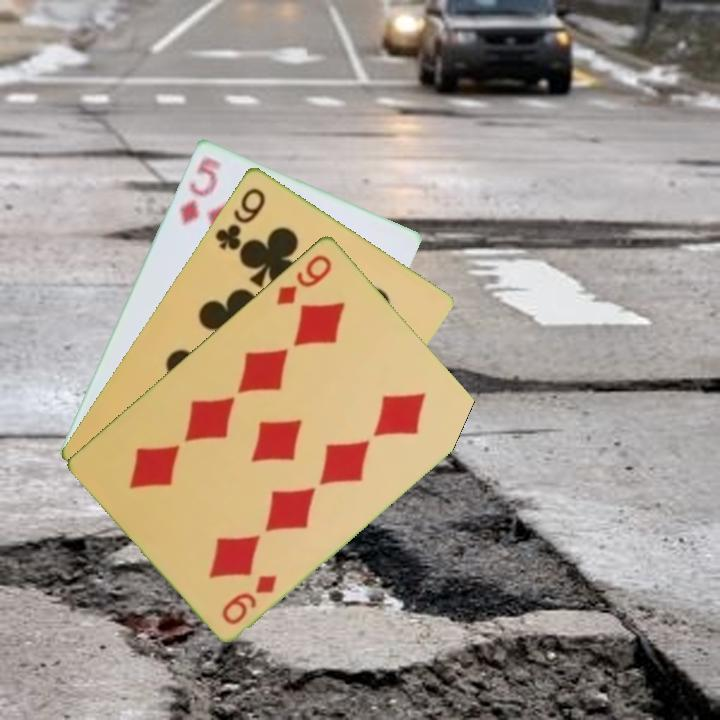5d: (175, 153, 224, 227)
9c: (211, 183, 269, 253)
9d: (218, 570, 281, 628), (273, 250, 335, 308)
